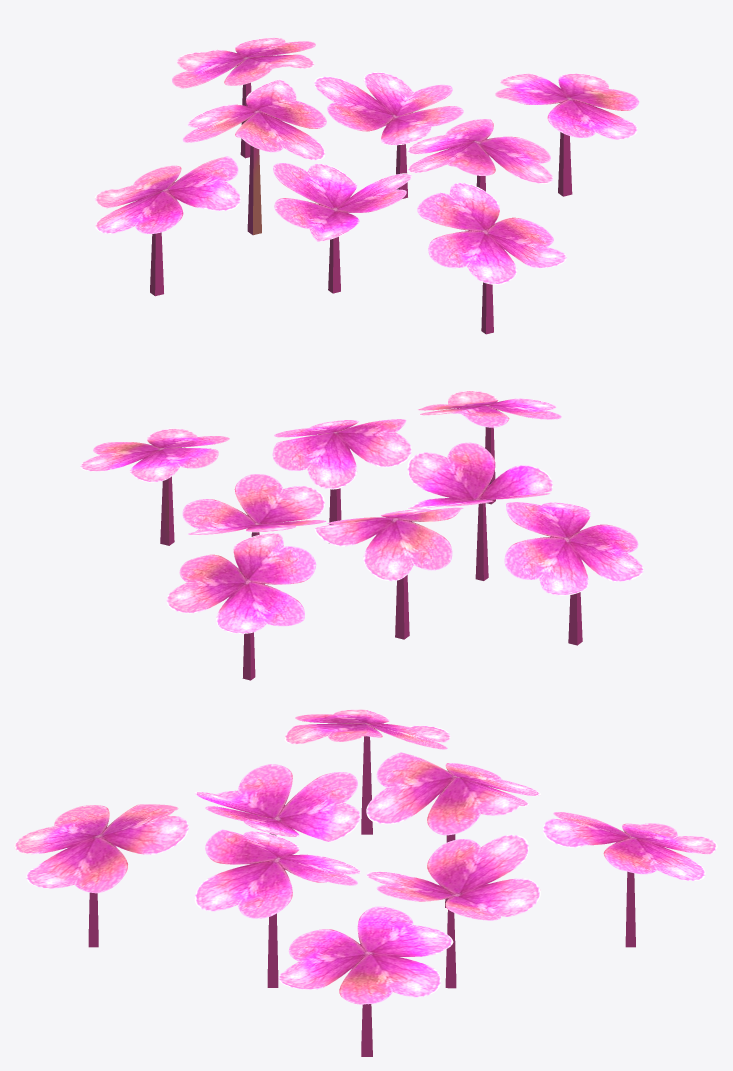
The model's file is low_poly_stylized_clover_grass.glb.
3 renders of one model, top to bottom at view 1: azimuth 30°, elevation 25°; view 2: azimuth 150°, elevation 25°; view 3: azimuth 270°, elevation 25°, orthographic. The views are drawn at different scales.
Parts seen in each view (by area): view 1: Plane; view 2: Plane; view 3: Plane.
Part boxes in pixels (x1,y1,x2,y2): Plane: (94,37,639,334); Plane: (80,390,643,680); Plane: (14,709,717,1056).
Size of the model in its own units: 1.39 by 0.2929 by 1.39.
1 material, 1 textured.
